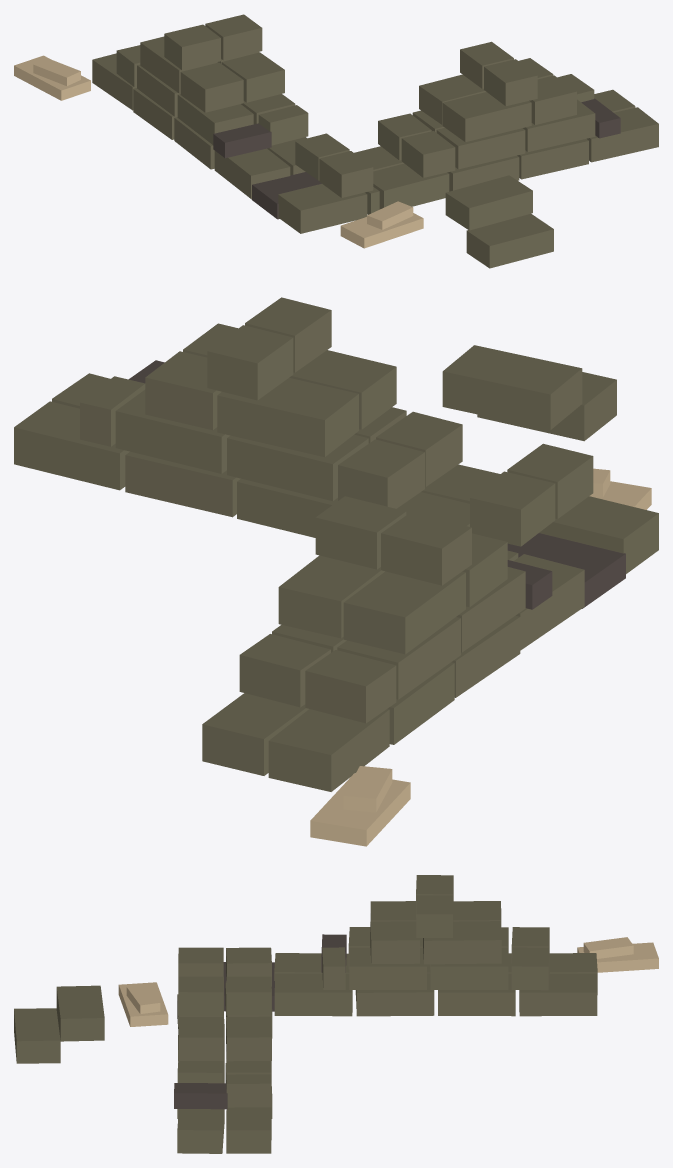
File: SM_SacosEsquina_v1_Talud_e1_Danado_LOD0.fbx
3 renders of one model, top to bottom at view 1: azimuth 30°, elevation 25°; view 2: azimuth 150°, elevation 25°; view 3: azimuth 270°, elevation 25°, orthographic. The views are drawn at different scales.
Parts seen in each view (by area): view 1: SM_sacos_piezas_v5_LOD0; view 2: SM_sacos_piezas_v5_LOD0; view 3: SM_sacos_piezas_v5_LOD0.
Part boxes in pixels (box(x1,y1,x2,y2)): SM_sacos_piezas_v5_LOD0: box(14, 14, 658, 268); SM_sacos_piezas_v5_LOD0: box(14, 297, 658, 846); SM_sacos_piezas_v5_LOD0: box(14, 875, 658, 1153).
Bounding box in the file's own units: 4.99 × 1.18 × 6.73.
